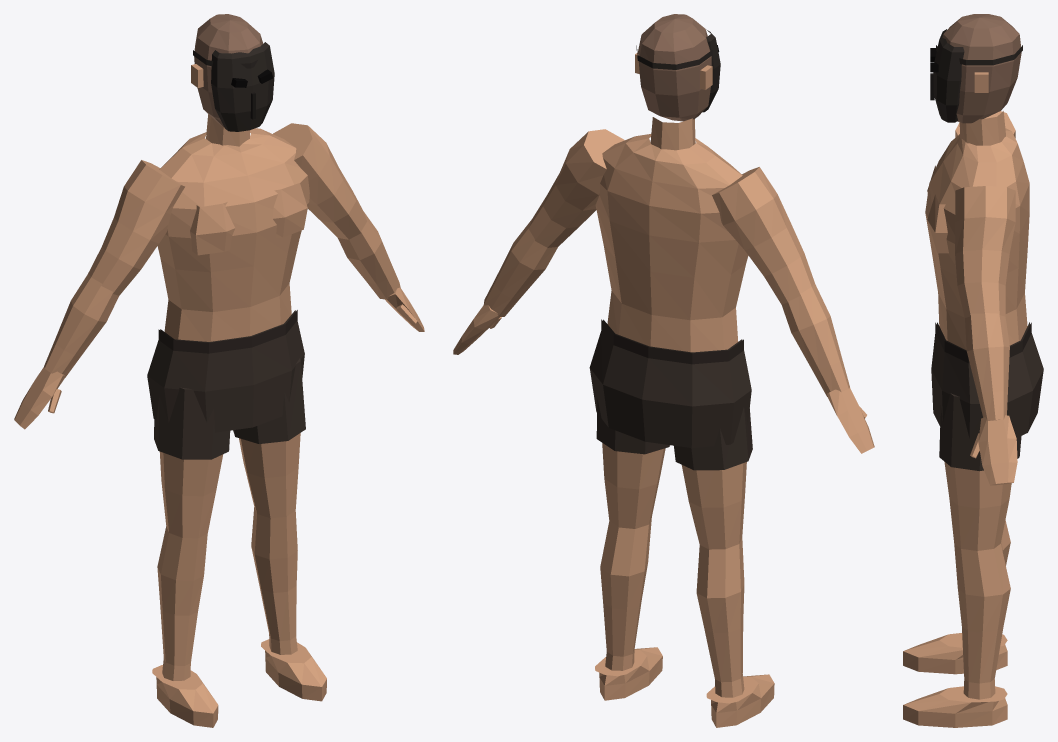
File: base-body.glb
The picture shows the model from 3 angles, left to right: view 1: azimuth 30°, elevation 25°; view 2: azimuth 150°, elevation 25°; view 3: azimuth 270°, elevation 25°; orthographic projection. The views are drawn at different scales.
Visible parts, largest first — view 1: torso, upperArm (×2), shin (×2), shorts, thigh (×2), foreArm (×2), shortLeg (×2), foot (×2), mask, pec (×2), head, waistband (+2 smaller); view 2: torso, shorts, upperArm (×2), shin (×2), thigh (×2), foreArm (×2), head, foot (×2), shortLeg (×2), hand (×2), waistband, neck; view 3: torso, upperArm (×2), shin (×2), foot (×2), shorts, head, thigh, foreArm, hand, shortLeg, mask, neck (+4 smaller).
Part boxes in pixels (x1,y1,x2,y2): torso: (157, 128, 309, 341); upperArm (×2): (88, 123, 367, 295); shin (×2): (157, 507, 297, 680); shorts: (147, 310, 304, 432); thigh (×2): (159, 433, 300, 538); foreArm (×2): (44, 211, 400, 377); shortLeg (×2): (154, 358, 305, 459); foot (×2): (152, 639, 326, 727); mask: (211, 42, 274, 131); pec (×2): (190, 183, 307, 255); head: (194, 14, 263, 126); waistband: (158, 310, 297, 353); torso: (595, 134, 748, 352); shorts: (589, 319, 751, 447); upperArm (×2): (528, 129, 814, 304); shin (×2): (600, 517, 744, 697); thigh (×2): (602, 443, 746, 549); foreArm (×2): (483, 219, 849, 396); head: (638, 14, 711, 121); foot (×2): (595, 647, 774, 727); shortLeg (×2): (596, 399, 752, 470); hand (×2): (453, 305, 874, 453); waistband: (601, 319, 743, 364); neck: (650, 117, 695, 150); torso: (925, 128, 1029, 350); upperArm (×2): (955, 111, 1015, 318); shin (×2): (954, 520, 1010, 699); foot (×2): (903, 633, 1007, 727); shorts: (931, 322, 1043, 438); head: (942, 14, 1021, 123); thigh: (944, 462, 1011, 550); foreArm: (965, 313, 1009, 420); hand: (978, 415, 1017, 485); shortLeg: (939, 393, 1021, 471); mask: (933, 29, 964, 122); neck: (959, 111, 1005, 145).
Size of the model in its own units: 1.18 by 1.85 by 0.35.
